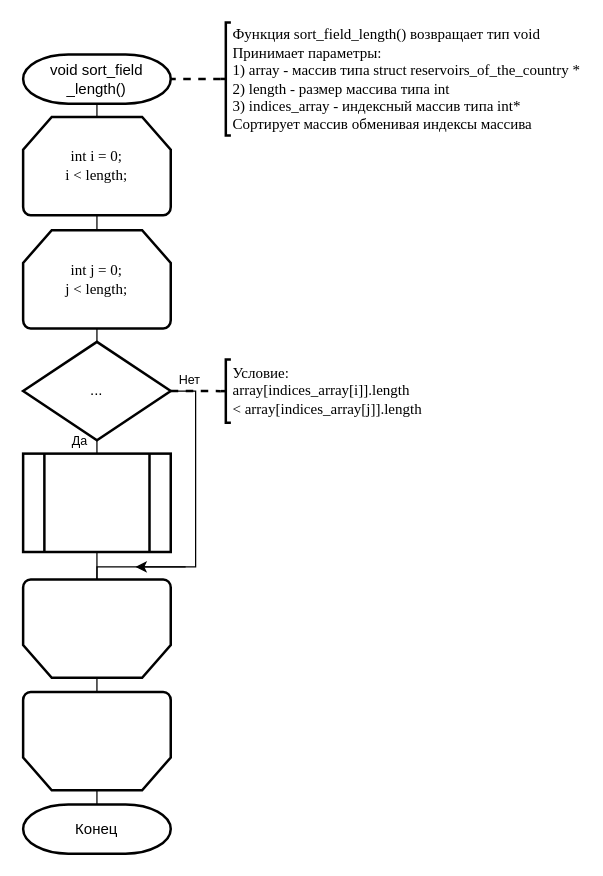
Some shapes in this 603 by 876 pixel diagram are drawn without their labels. Here are the shapes that lost their labels. From the top down, the centre of each, then its label:
pixel 96 502: int_swap( &indices_array[i], &indices_array[j] )
pixel 96 628: j++
pixel 96 740: i++
